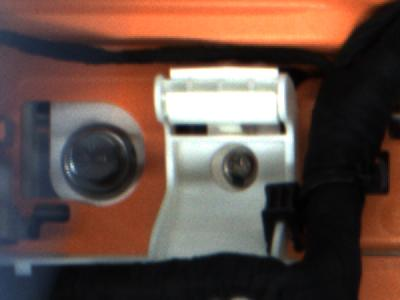nut_b: (54, 121, 136, 199)
